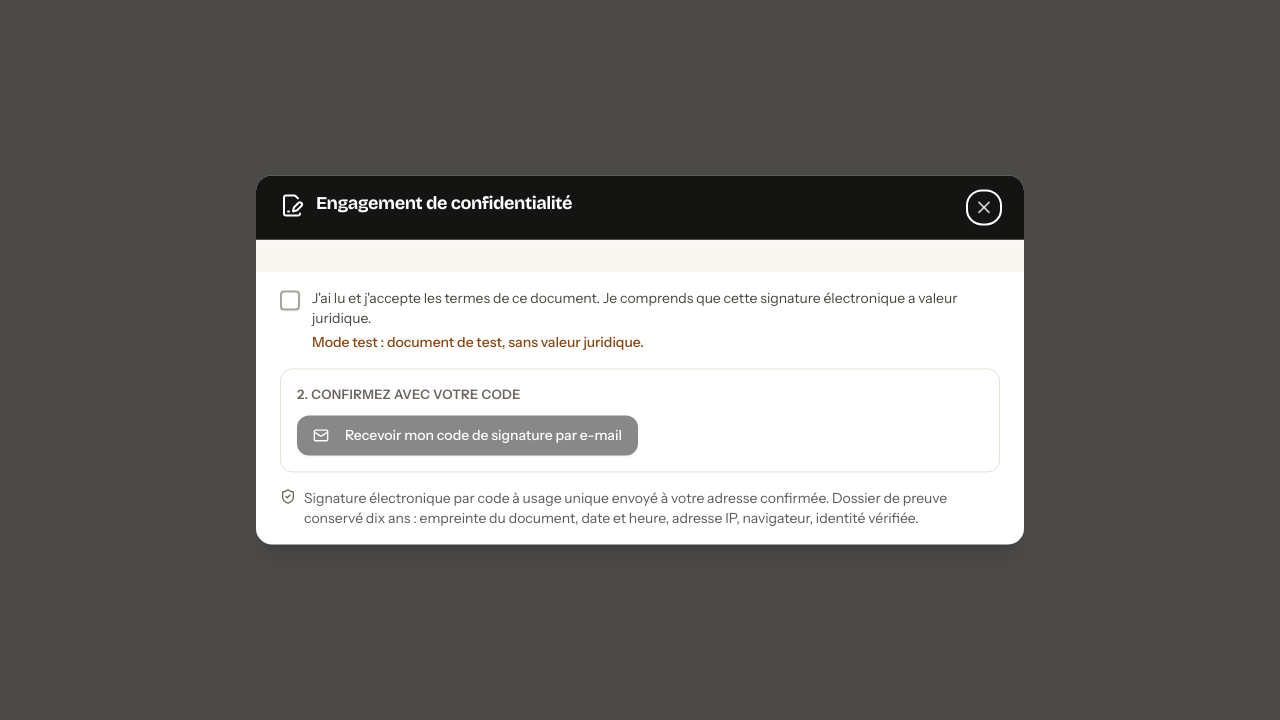
Test: OtpSignatureDialog — code de test › test_code renvoyé : encadré et bouton « Remplir » qui saisit le code
Click the checkbox with test id "otp-accept".
click(290, 300)  # box [280,290,300,310]
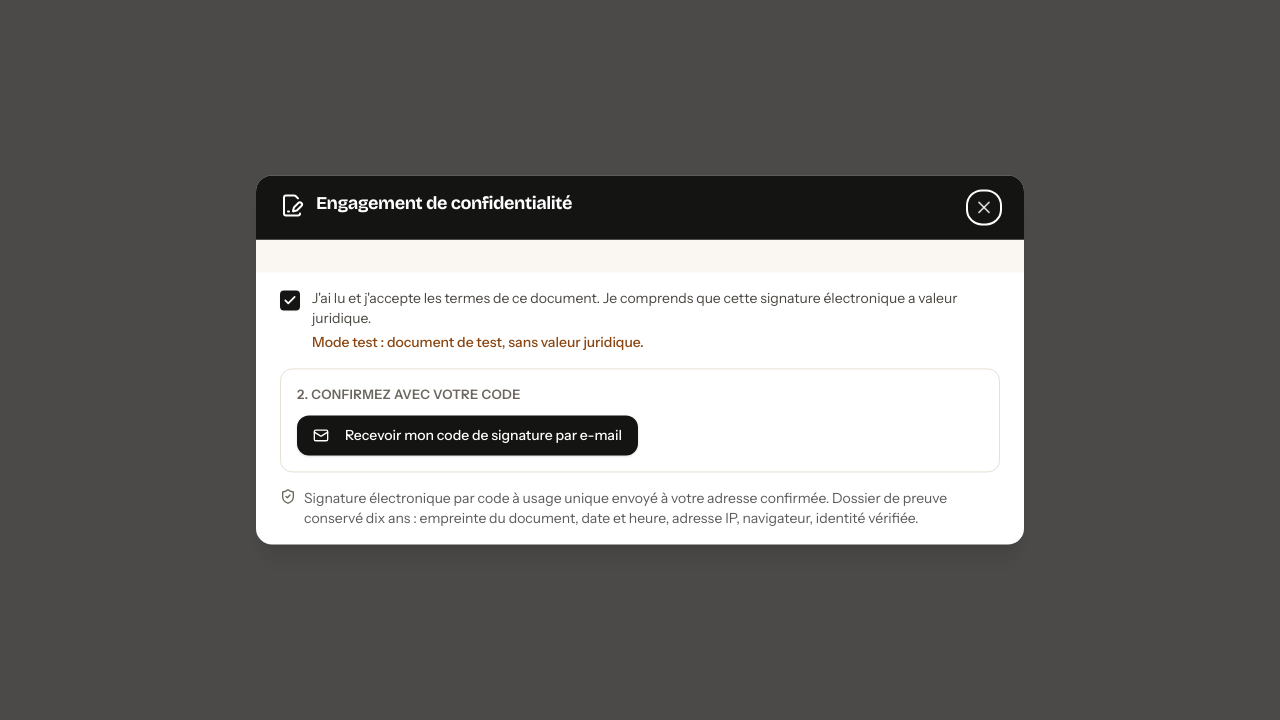
Click the button with test id "otp-request".
click(467, 436)  # box [297,416,638,456]
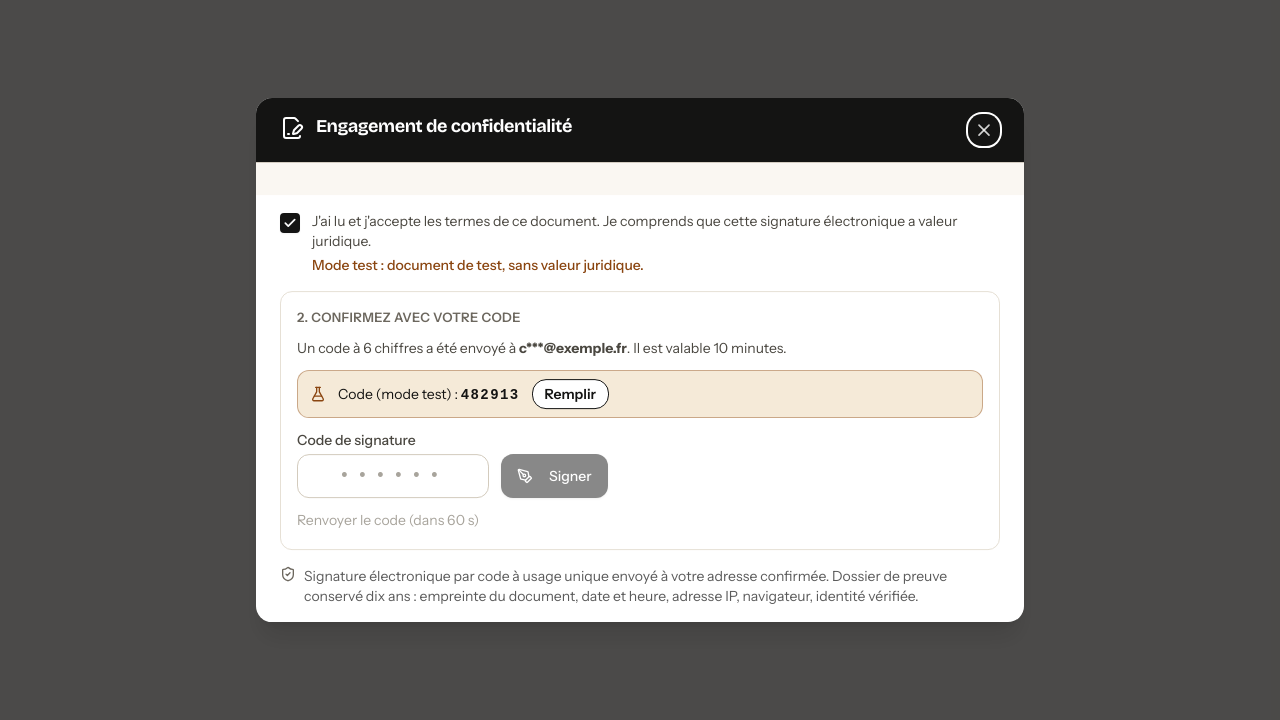
Now the element with test id "otp-test-code" shows "Code (mode test) : 482913", box [297,370,983,418]
Click the button with test id "otp-test-fill".
click(570, 394)  # box [532,379,609,409]
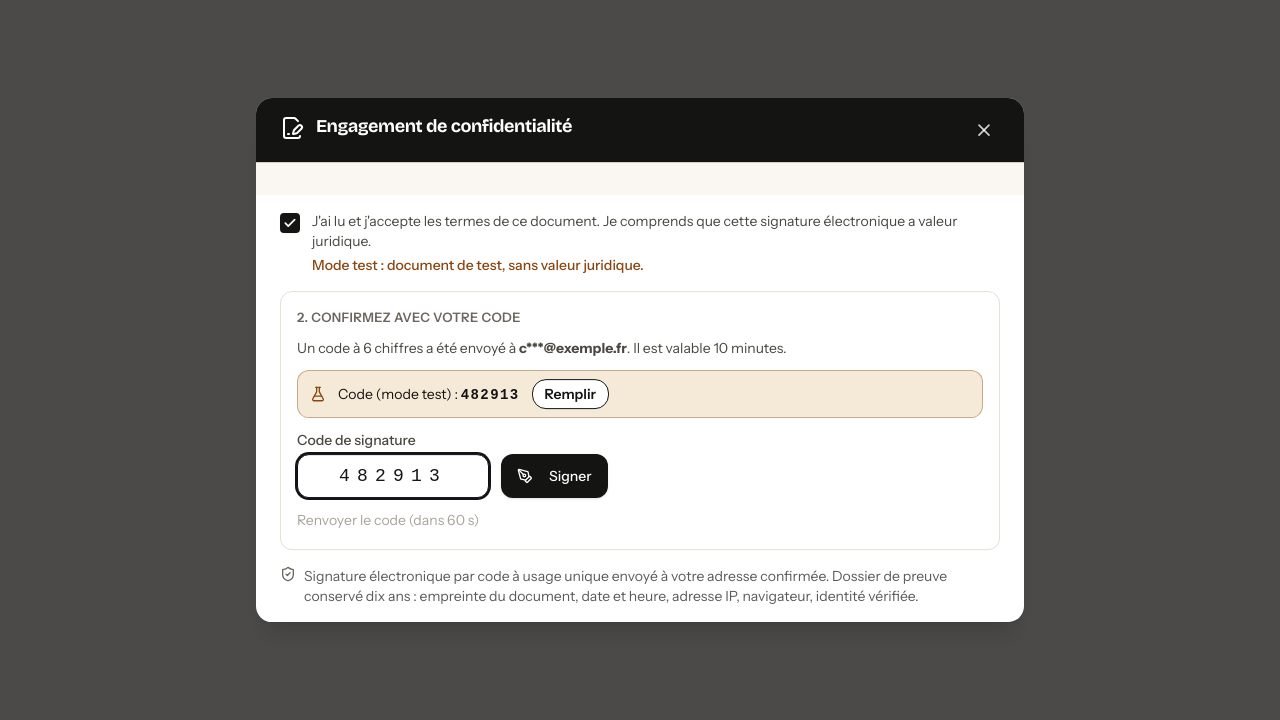
Now the field with test id "otp-code" holds "482913", box [297,454,489,498]
Now the button with test id "otp-sign" is enabled, box [501,454,608,498]
